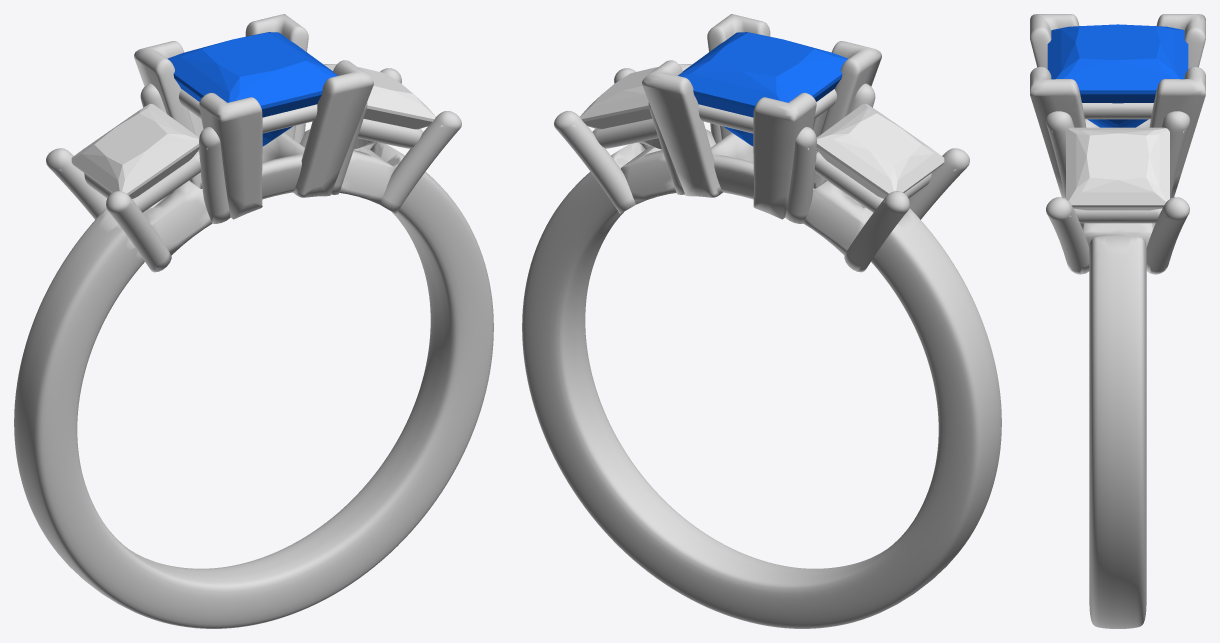
The model's file is bluesapphire-princess-platinum-protectededges4prongs-straightband-3stone.glb.
The picture shows the model from 3 angles, left to right: view 1: azimuth 30°, elevation 25°; view 2: azimuth 150°, elevation 25°; view 3: azimuth 270°, elevation 25°; orthographic projection.
Visible parts, largest first — view 1: metal, stone, side.001, side; view 2: metal, stone, side.001, side; view 3: metal, stone, side.
Part boxes in pixels (box(x1,y1,x2,y2)): metal: box(14, 14, 493, 628); stone: box(167, 32, 337, 146); side.001: box(71, 103, 199, 198); side: box(323, 64, 435, 149); metal: box(522, 14, 1001, 628); stone: box(678, 32, 848, 146); side.001: box(816, 103, 944, 198); side: box(580, 64, 692, 149); metal: box(1030, 14, 1205, 628); stone: box(1047, 24, 1188, 127); side: box(1066, 127, 1169, 210).
Bounding box in the file's own units: 20.51 × 23.85 × 6.77.
